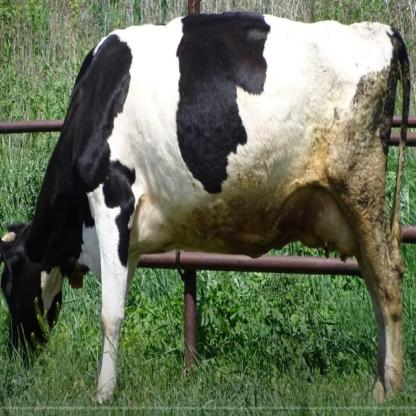cow: (0, 11, 412, 402)
